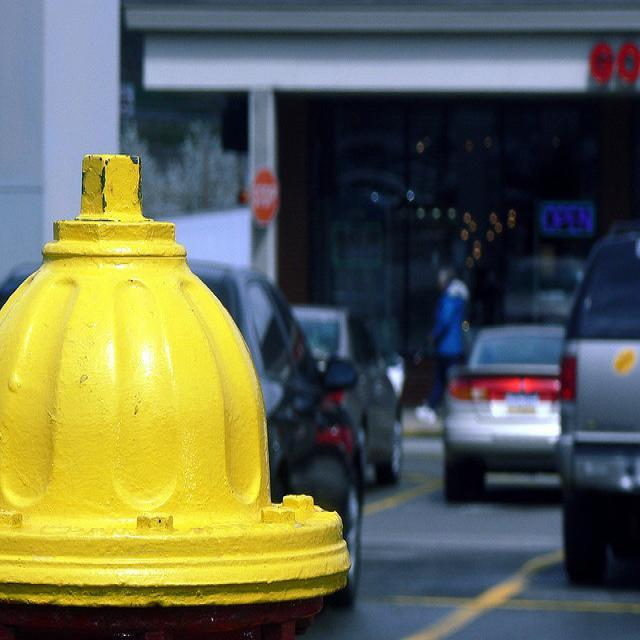fire_hydrant: (0, 150, 346, 634)
